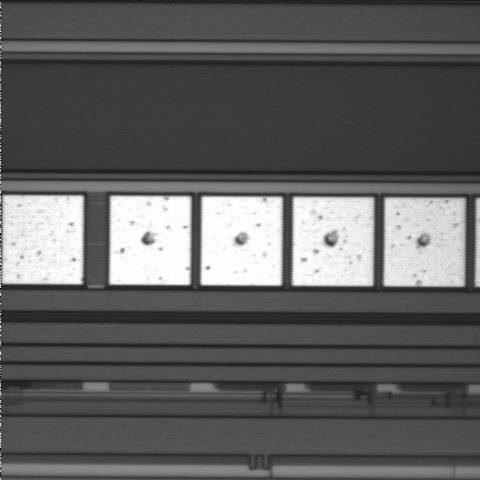pad: (292, 197, 374, 286), (2, 195, 83, 284), (110, 196, 191, 285), (201, 196, 282, 285), (384, 198, 465, 286)
